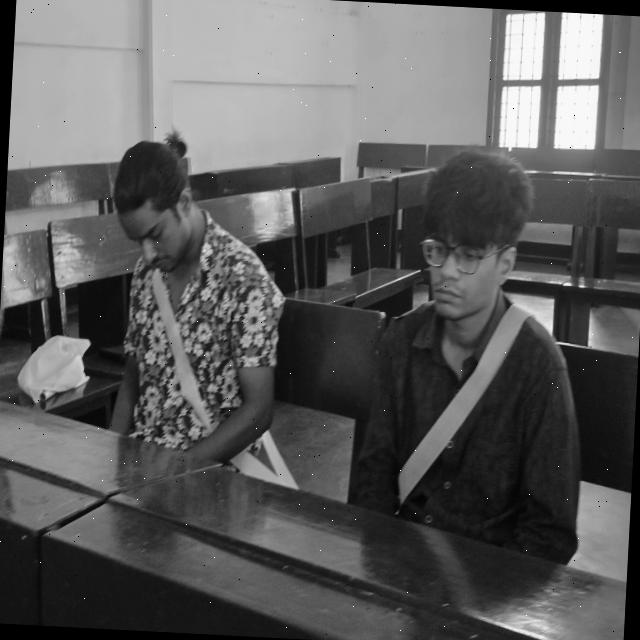seatbelt: (113, 270, 234, 432)
